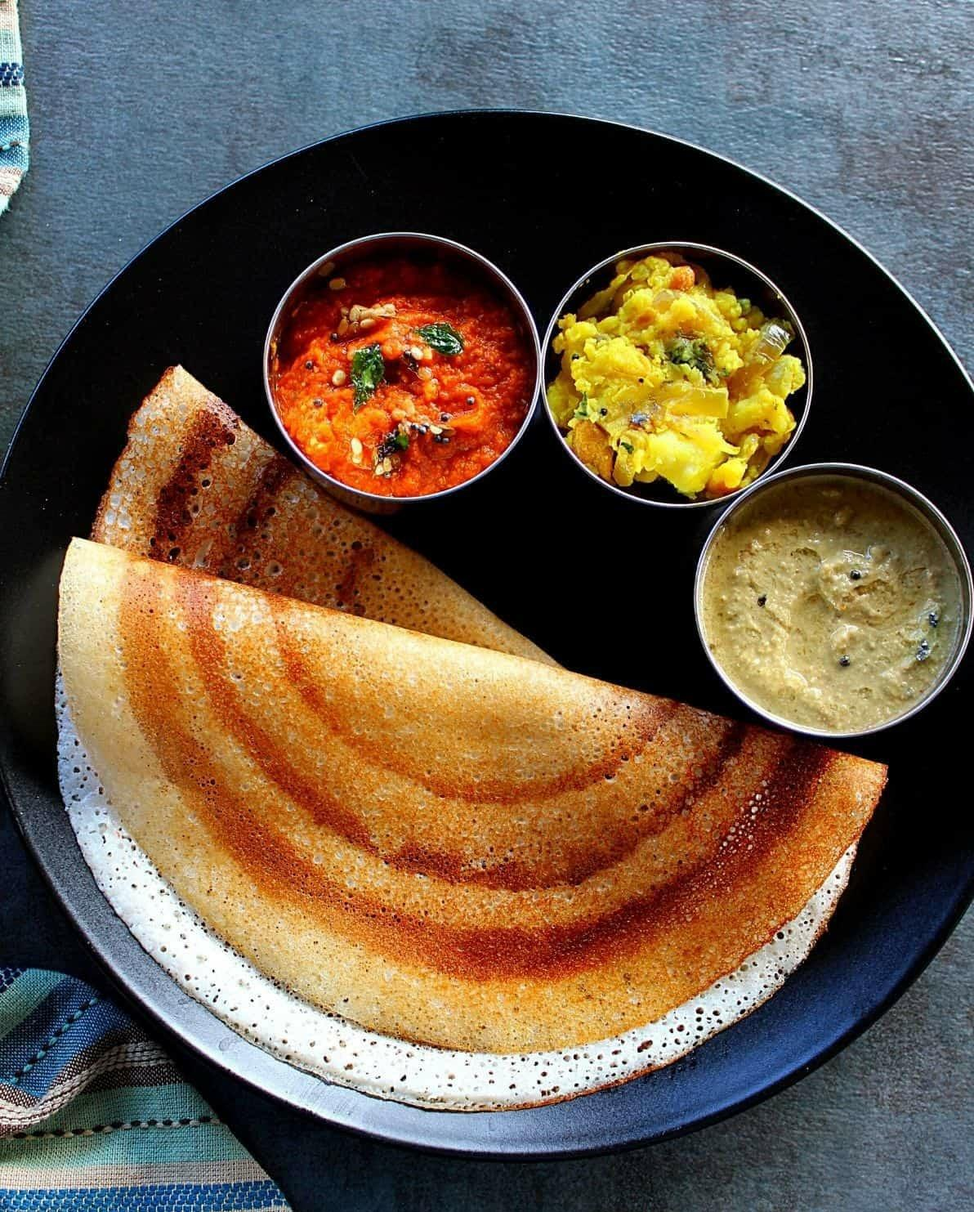CoconutChutney: (709, 485, 963, 732)
Dosa: (59, 539, 888, 1117), (88, 360, 564, 666)
